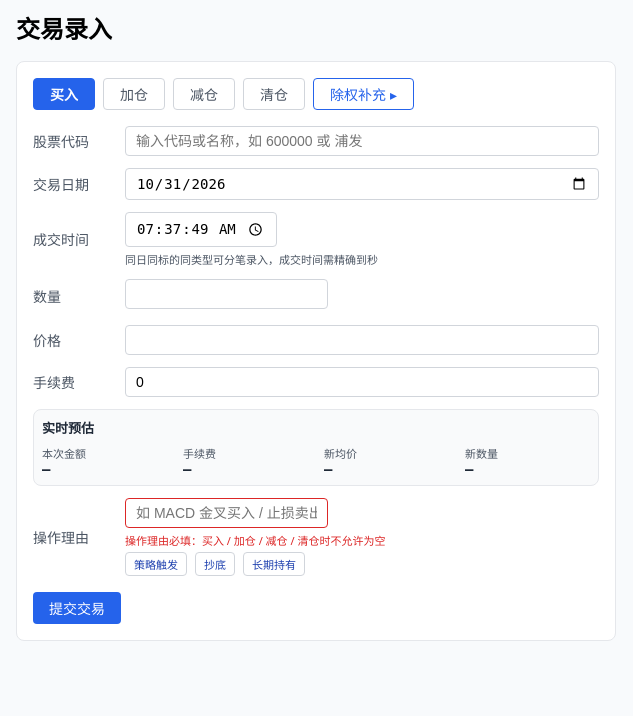
Test: T68 ① · 交易类型 Tab 组与字段联动 › 切到「分红」（除权补充）→ 理由自动固化且不可编辑（字段联动）
Step 1. Type "2026-10-20" into the date field labelled "交易日期" → (362, 184), box [125, 168, 599, 200]
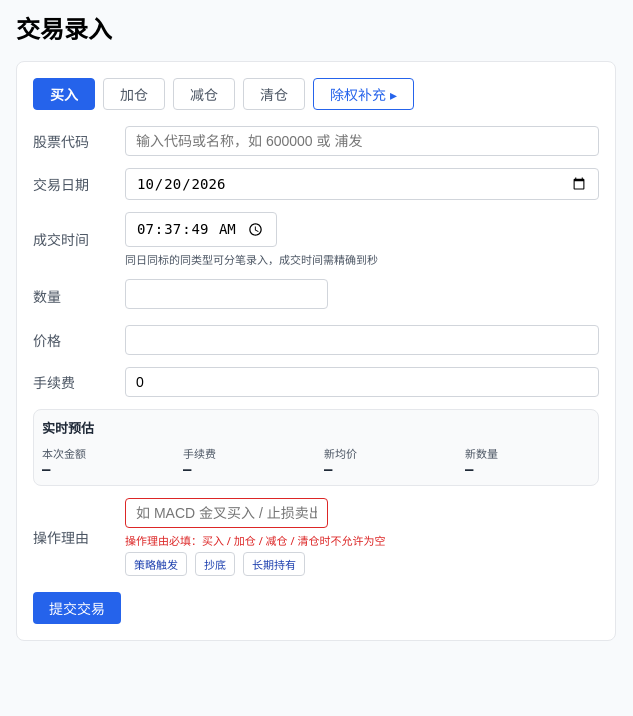
Step 2. Click the tab "除权补充 ▸" → (363, 94), box [313, 78, 414, 110]
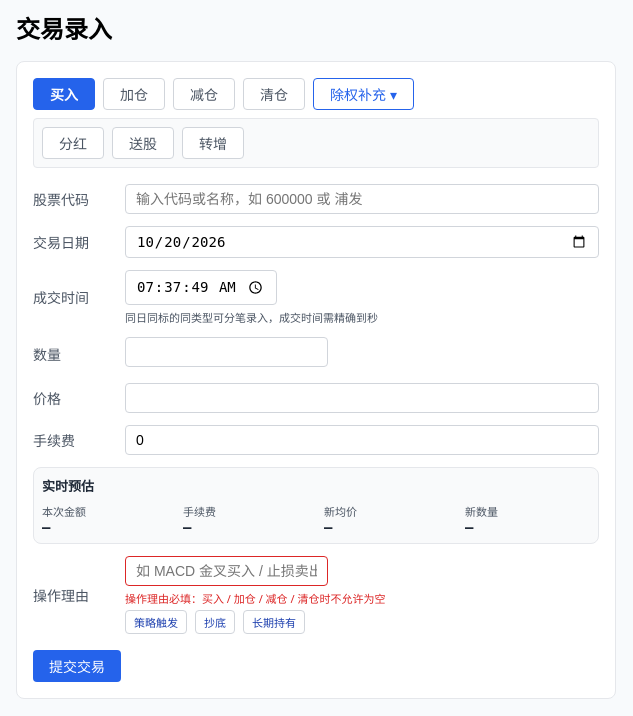
Step 3. Click the button with test id "trade-tab-dividend" → (73, 143), box [42, 127, 104, 159]
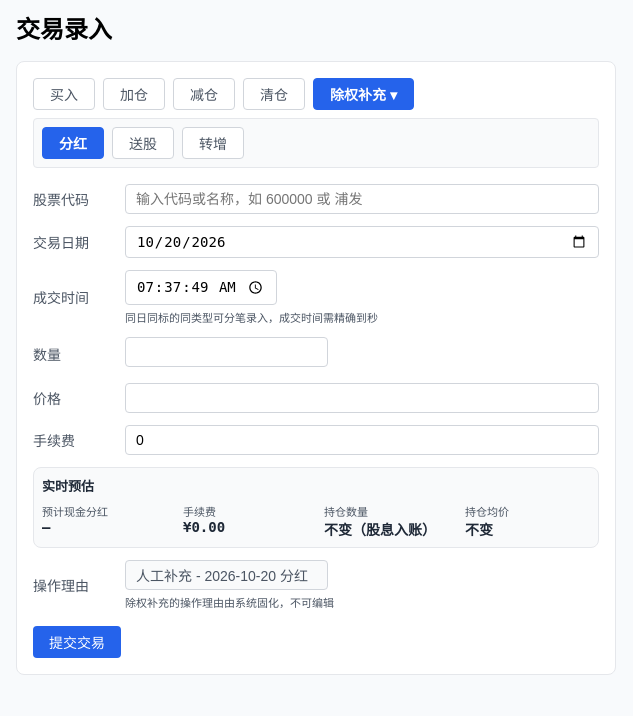
Expected: the field labelled "操作理由" holds "人工补充 - 2026-10-20 分红", [125, 560, 328, 590]
